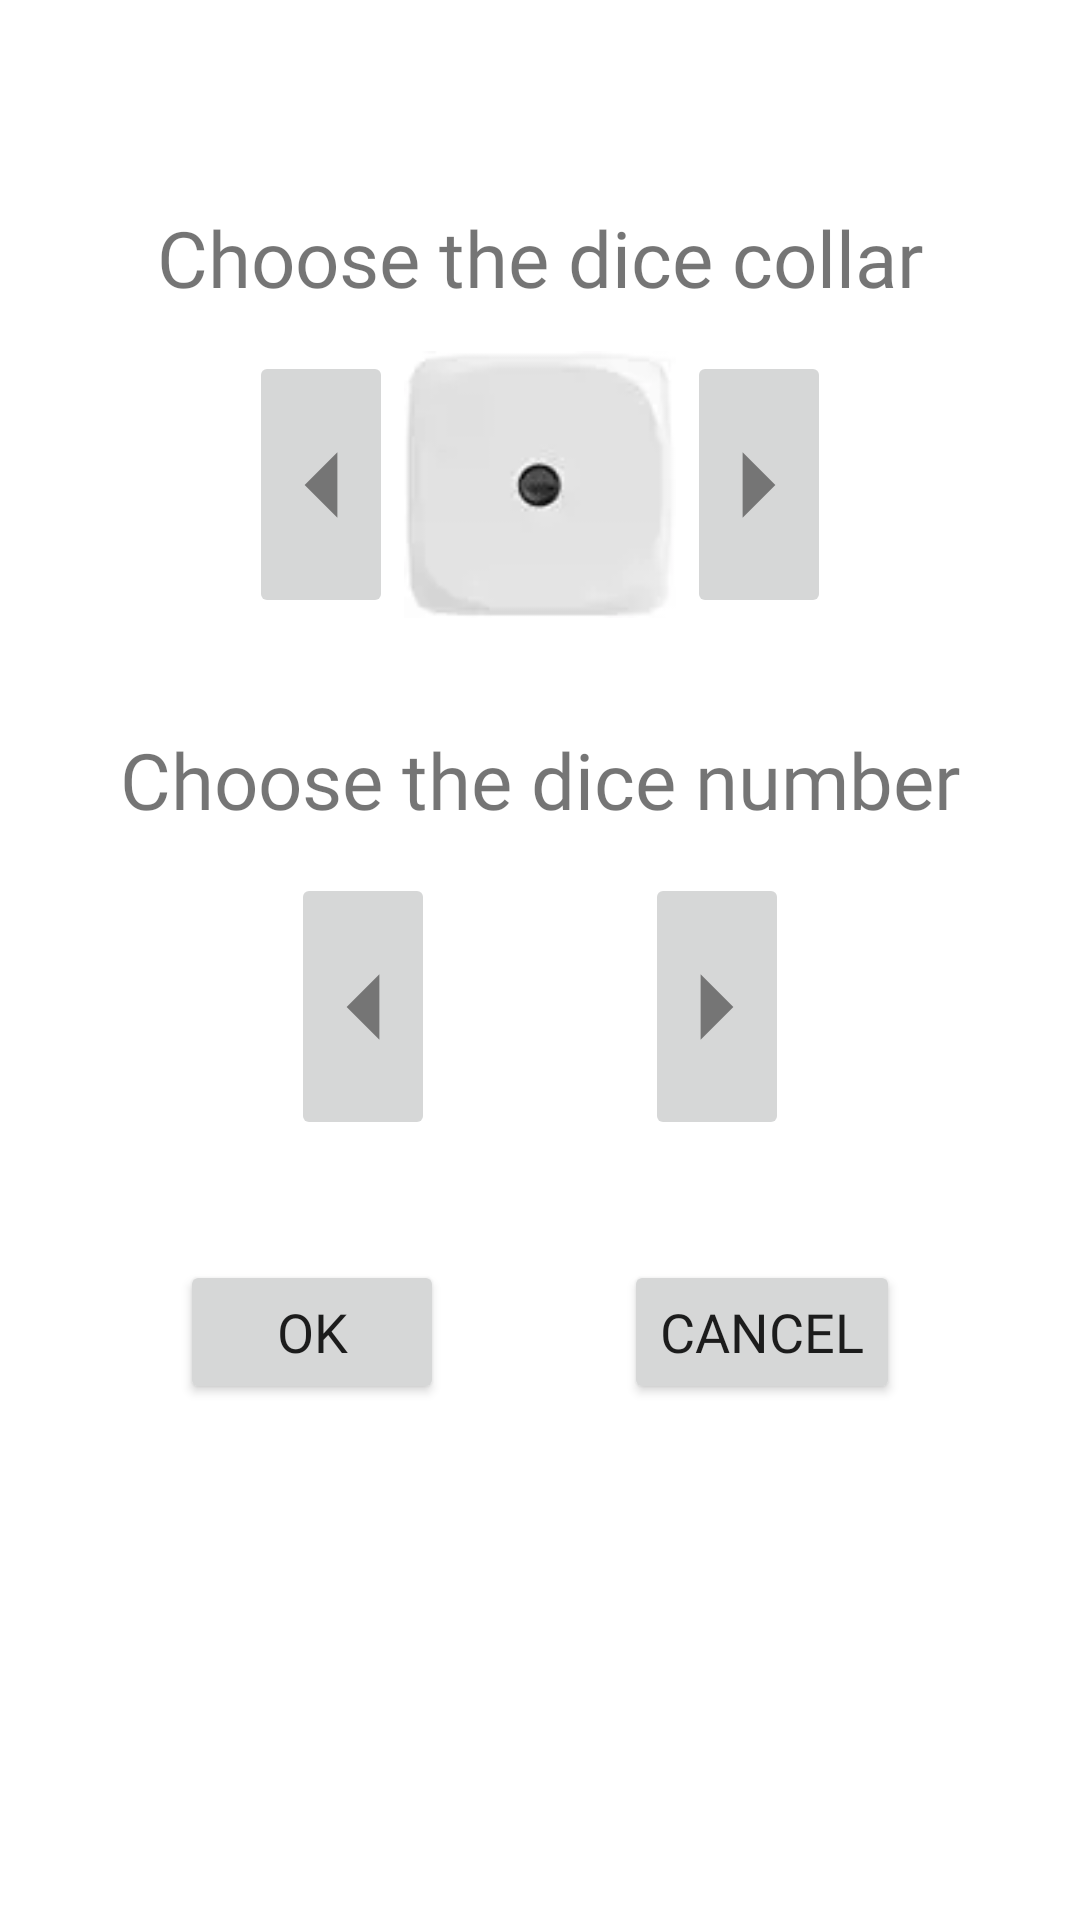

Icon click points for this 1080x1920 phone screenshot, format (x=x, y=y):
arrow left: (x=363, y=1006)
arrow right: (x=717, y=1006)
Image with dice color: (x=535, y=487)
Left button to choose the dice color: (x=321, y=484)
Right button to choose the dice color: (x=759, y=484)
